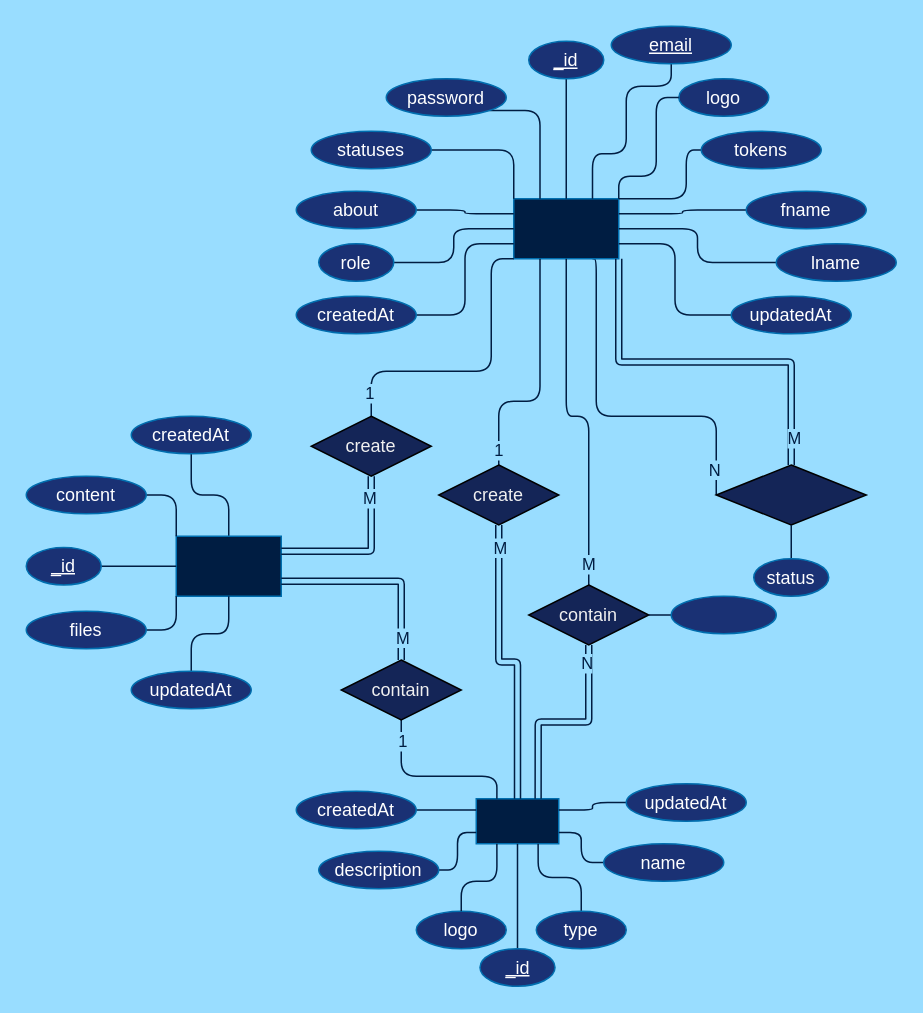
Image size: 923x1013. Some labels were removed from this diagram. The centre of each missing label's shape, as x and y in pixels:
"Chat" goes at [517,820].
"friendship" goes at [790,494].
"Message" goes at [228,565].
"User" goes at [565,228].
"userRole" goes at [723,614].
